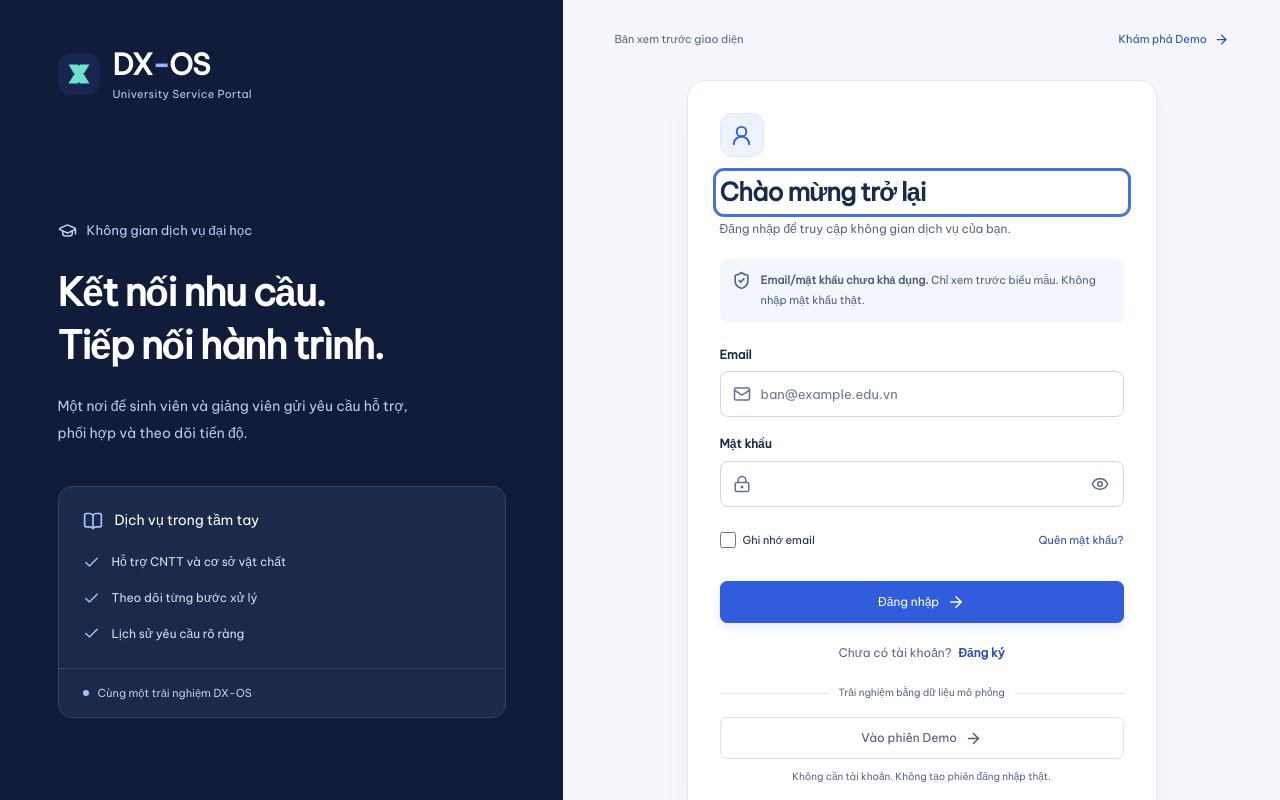
Scenario: email/password UI remains blocked › rejects invalid email  accessibly
The width and height of the screenshot is (1280, 800).
Click the button "Đăng nhập": (922, 602) x1=720 y1=581 x2=1124 y2=623
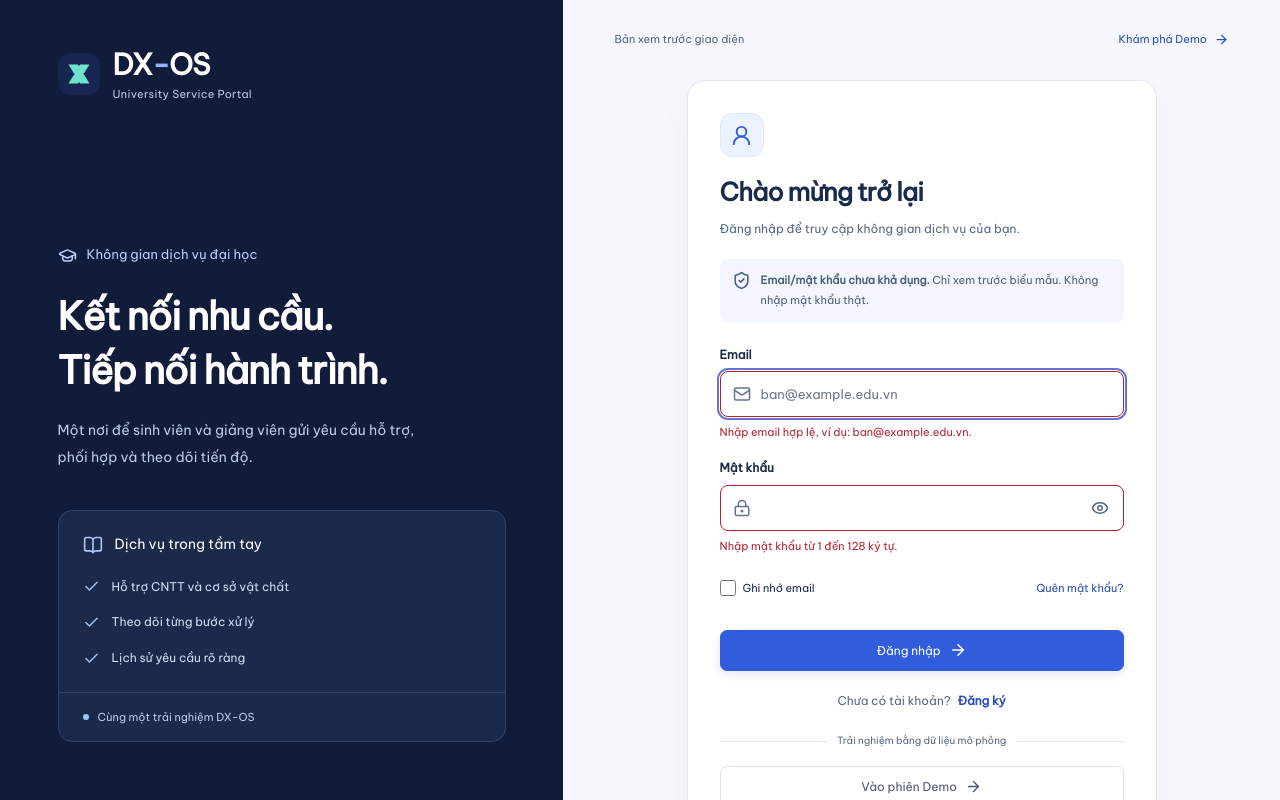
Now the text "Nhập email hợp lệ, ví dụ: ban@example.edu.vn." is shown, box x1=720 y1=425 x2=972 y2=439
